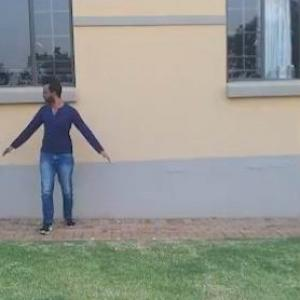land: (12, 69, 114, 242)
